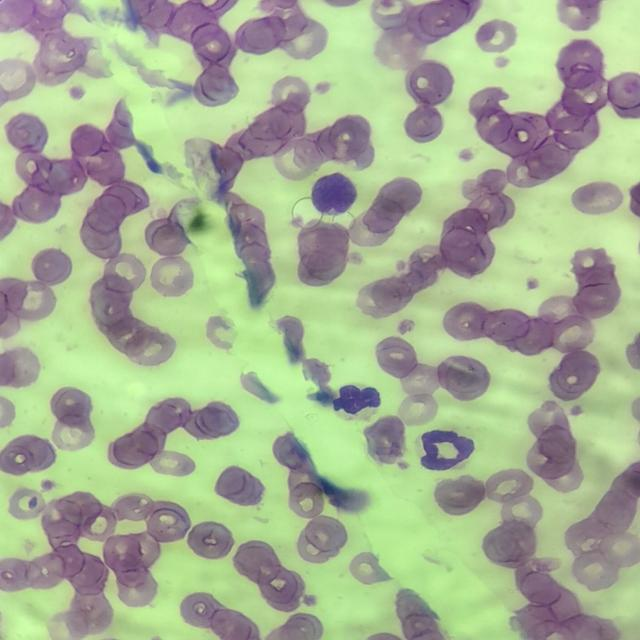Neutrofilo: (417, 430, 476, 472), (327, 382, 381, 423)
